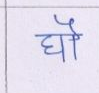au_matra: (65, 16, 81, 60)
